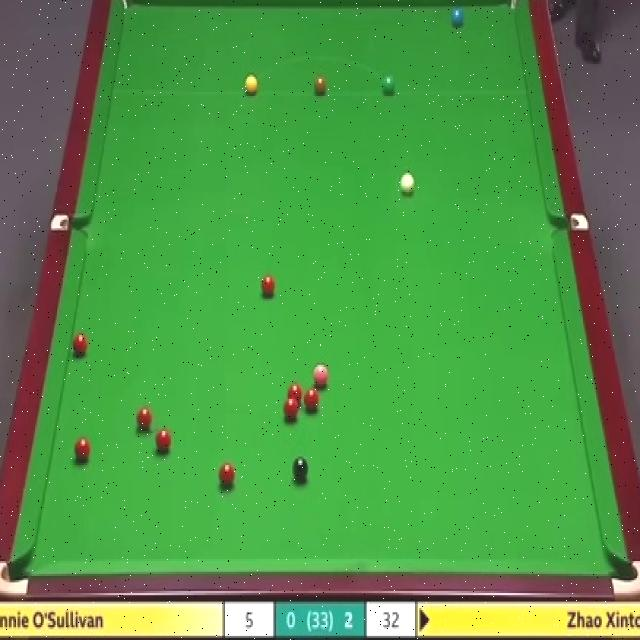black-ball: (292, 456, 310, 481)
blue-ball: (452, 8, 463, 30)
brown-ball: (313, 77, 327, 94)
green-ball: (382, 72, 396, 98)
pink-ball: (311, 367, 329, 384)
red-ball: (281, 396, 301, 421), (217, 462, 236, 488), (74, 438, 92, 464), (285, 382, 303, 408), (155, 430, 173, 455), (131, 407, 147, 434), (303, 389, 321, 412), (72, 331, 88, 355), (259, 274, 276, 296)
white-ball: (400, 171, 414, 196)
yellow-ball: (244, 74, 258, 95)
